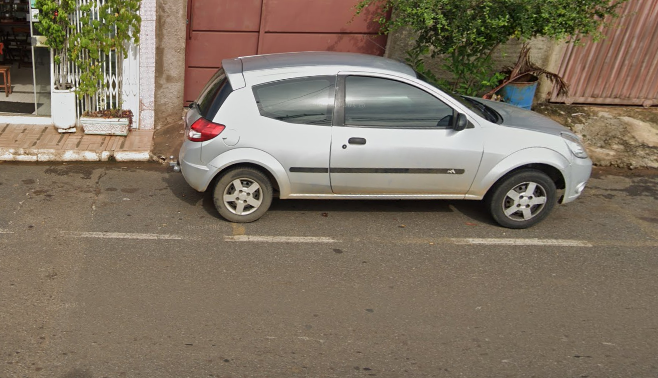car: (176, 53, 598, 230)
